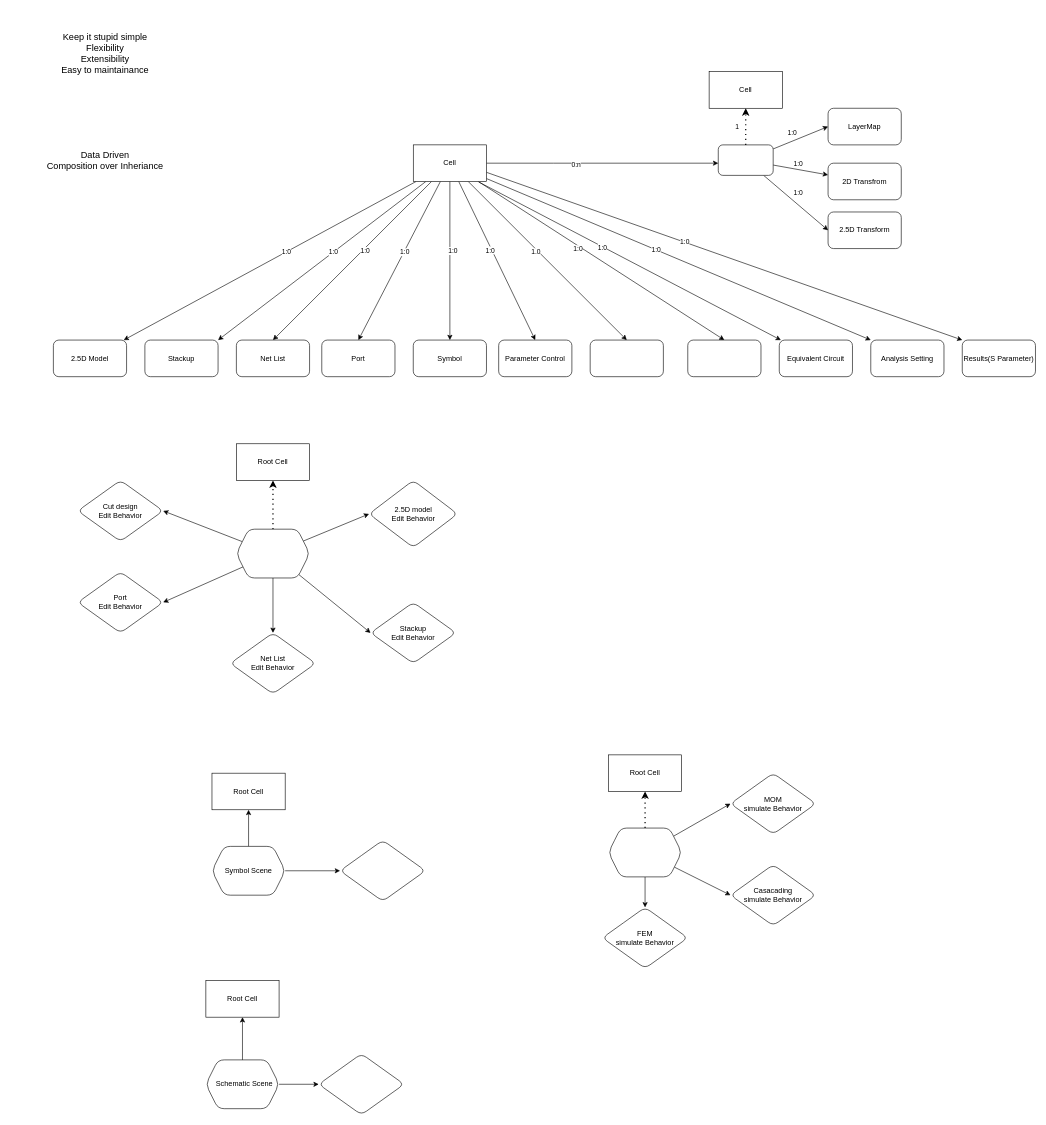
The diagram is 1046 pixels wide and 1125 high, and some of its shapes have lost their labels. Each missing label, with the centre of its shape:
2D Edit Behavior: pixel 361 1084
2D Model: pixel 626 358
Cell Instance: pixel 745 159
Equivalent Fomular: pixel 724 358
Layout Scene: pixel 273 553
Simulation Scene: pixel 645 852
Symbol Edit Behavior: pixel 382 870
